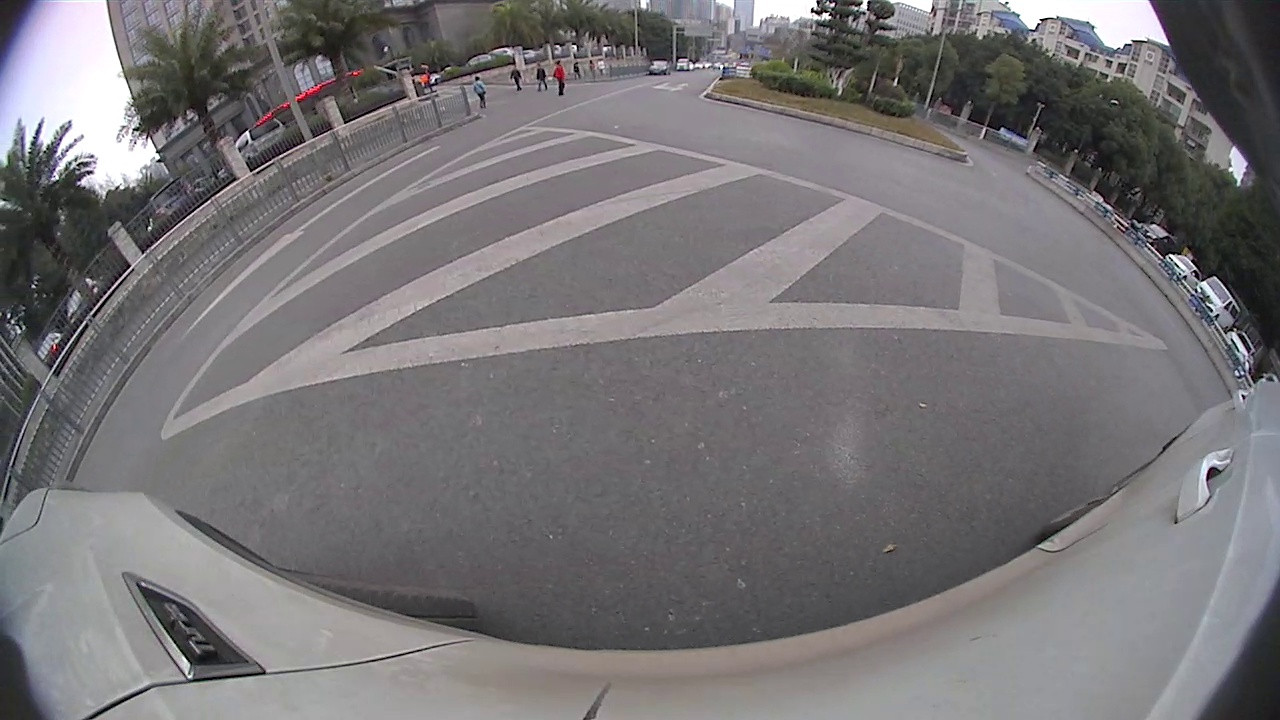bus: (1, 220, 69, 396)
car: (933, 137, 1170, 387), (1170, 330, 1235, 435)
front: (1119, 345, 1164, 387), (1208, 422, 1225, 435)
rear: (1038, 312, 1113, 374), (1191, 403, 1213, 423), (1223, 436, 1241, 448)
